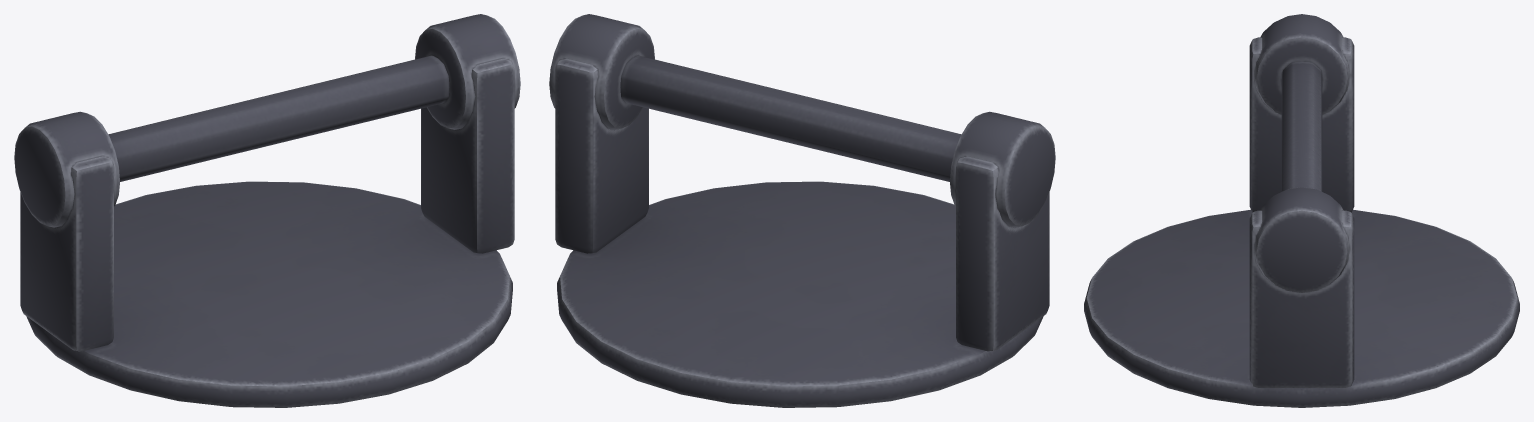
The model's file is mount.glb.
3 views of the same model, side by side, from view 1: azimuth 30°, elevation 25°; view 2: azimuth 150°, elevation 25°; view 3: azimuth 270°, elevation 25° (orthographic). The views are drawn at different scales.
Parts seen in each view (by area): view 1: mount; view 2: mount; view 3: mount.
Part boxes in pixels (x1,y1,x2,y2): mount: (14,14,520,407); mount: (549,14,1055,407); mount: (1084,14,1519,407).
Bounding box in the file's own units: 1.08 × 0.53 × 1.
1 material, 1 textured.
